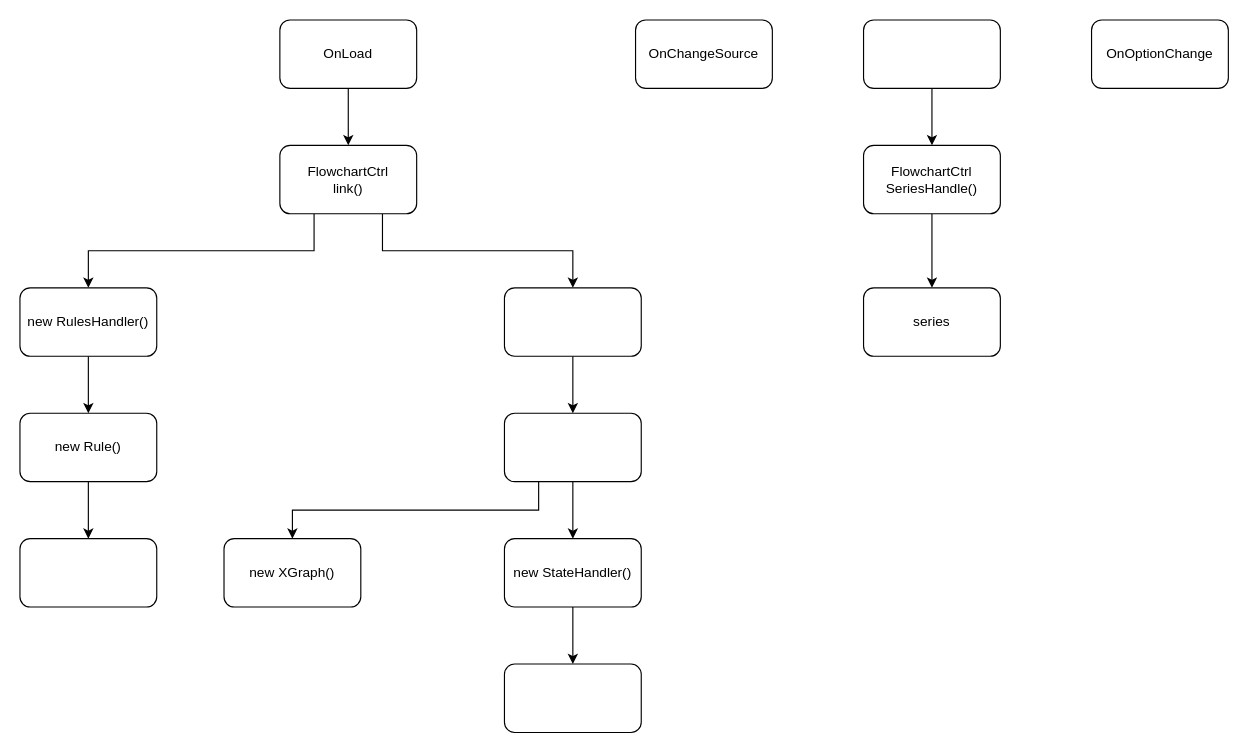
Some shapes in this 1248 by 752 pixel diagram are drawn without their labels. The shapes that lost their labels are listed below. From the top down, each one's centre as x and y in pixels, then its label:
(x=931, y=53): OnDataReceived
(x=572, y=321): new FlowchartHandler()
(x=572, y=447): new Flowchart()
(x=88, y=572): rules
(x=572, y=697): new State()
